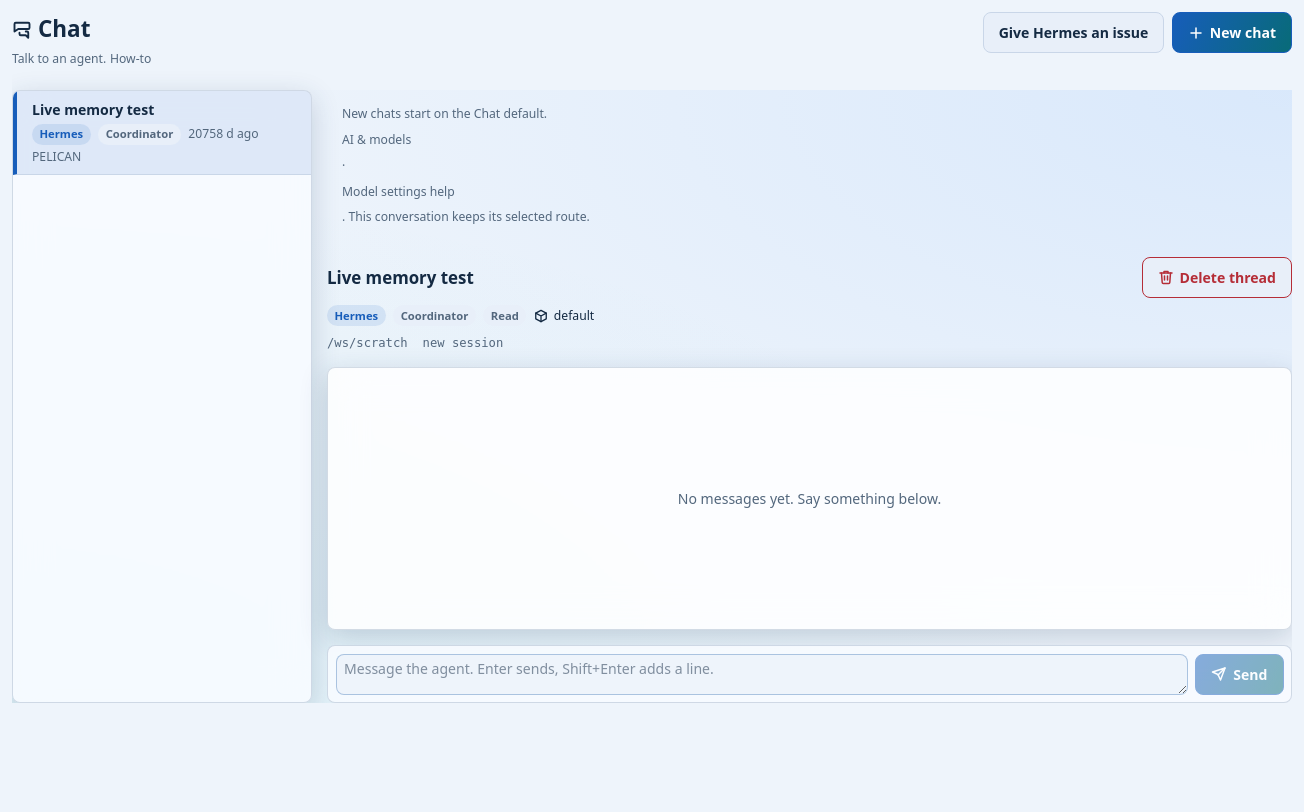
it: Chat view › sends the text with the guard header and clears the composer
Type "  hello agent " into the text box with id "composer-text" at [762, 674], box [336,654,1188,695]
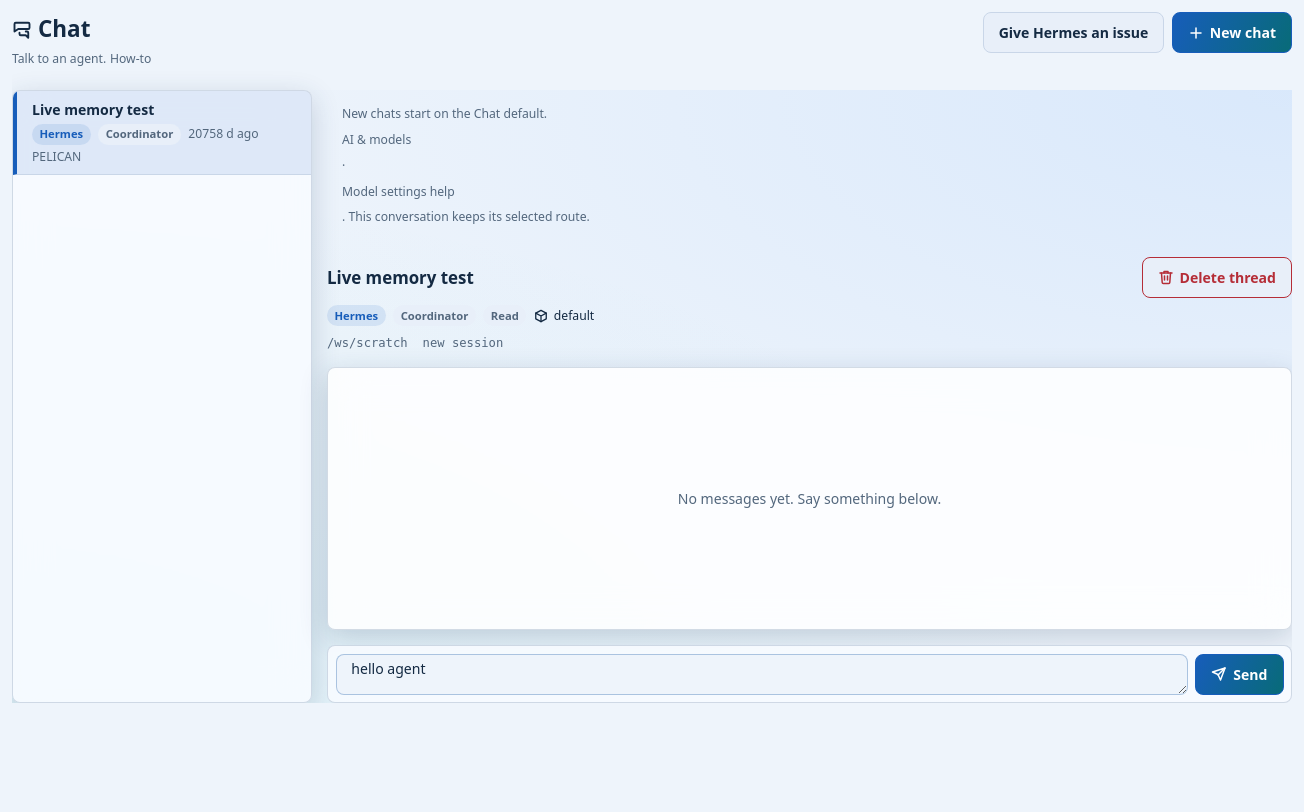
Submit the form with class "composer", box [327,645,1292,703]
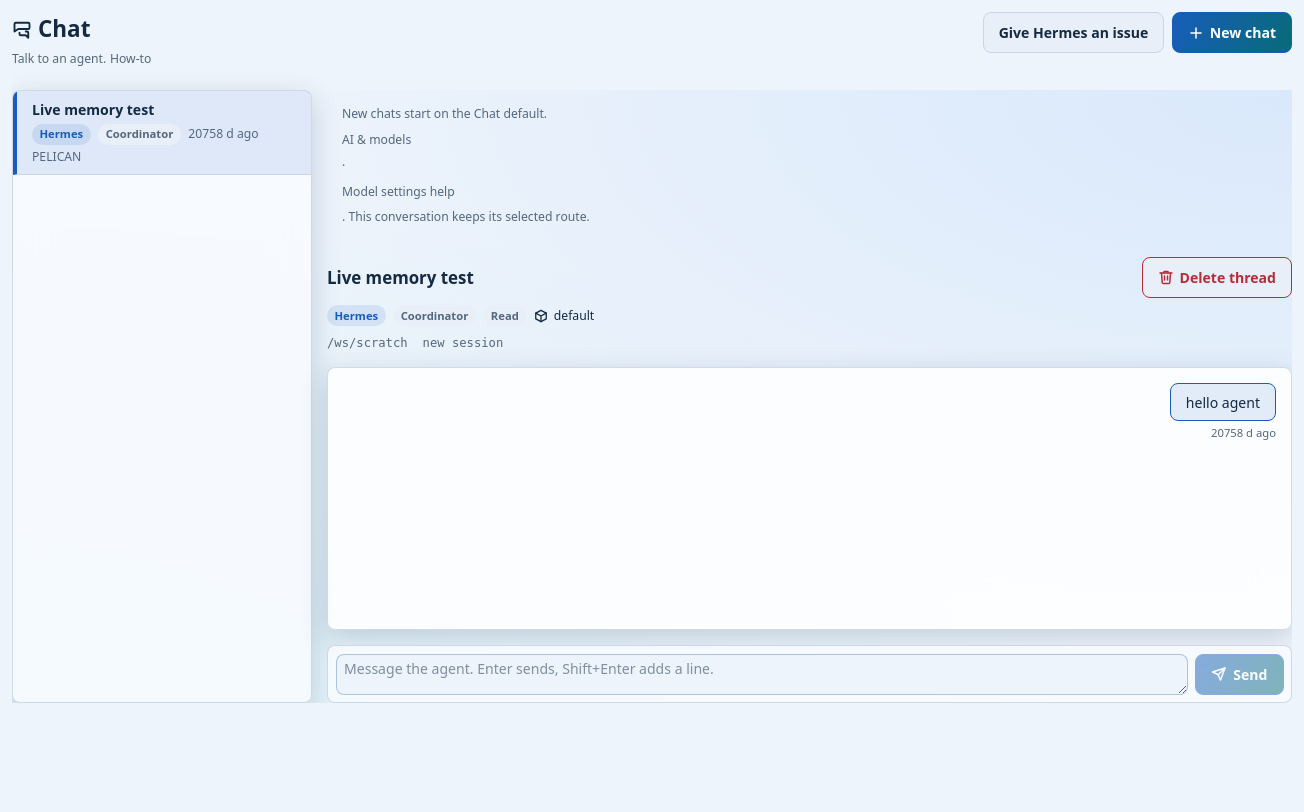
Expected: the text box with id "composer-text" is empty, [336,654,1188,695]
Expected: the text "hello agent" is shown, [1186,392,1260,413]
